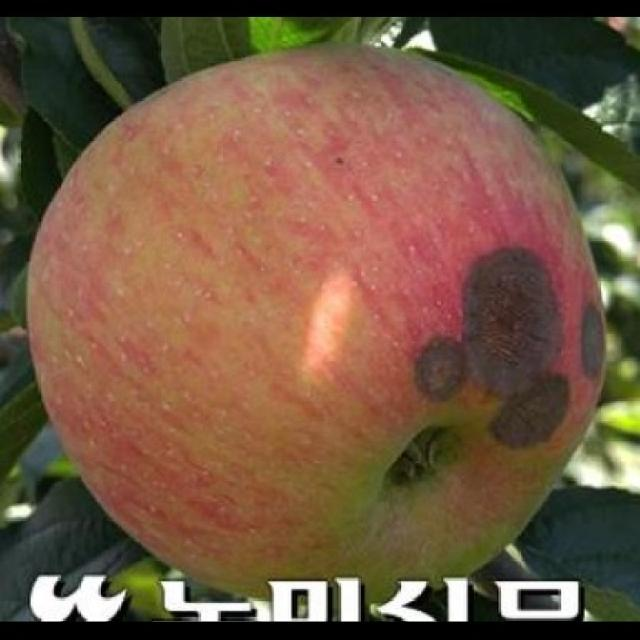Rotten Apple: (21, 37, 614, 612)
